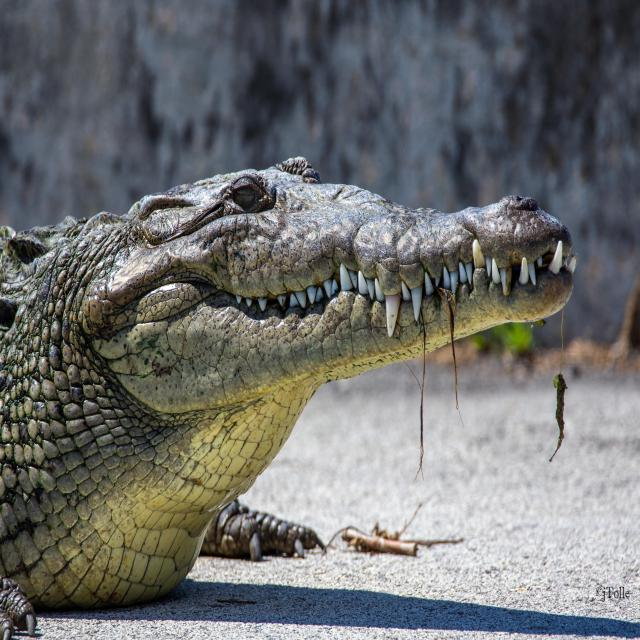crocodile: (0, 119, 611, 640)
